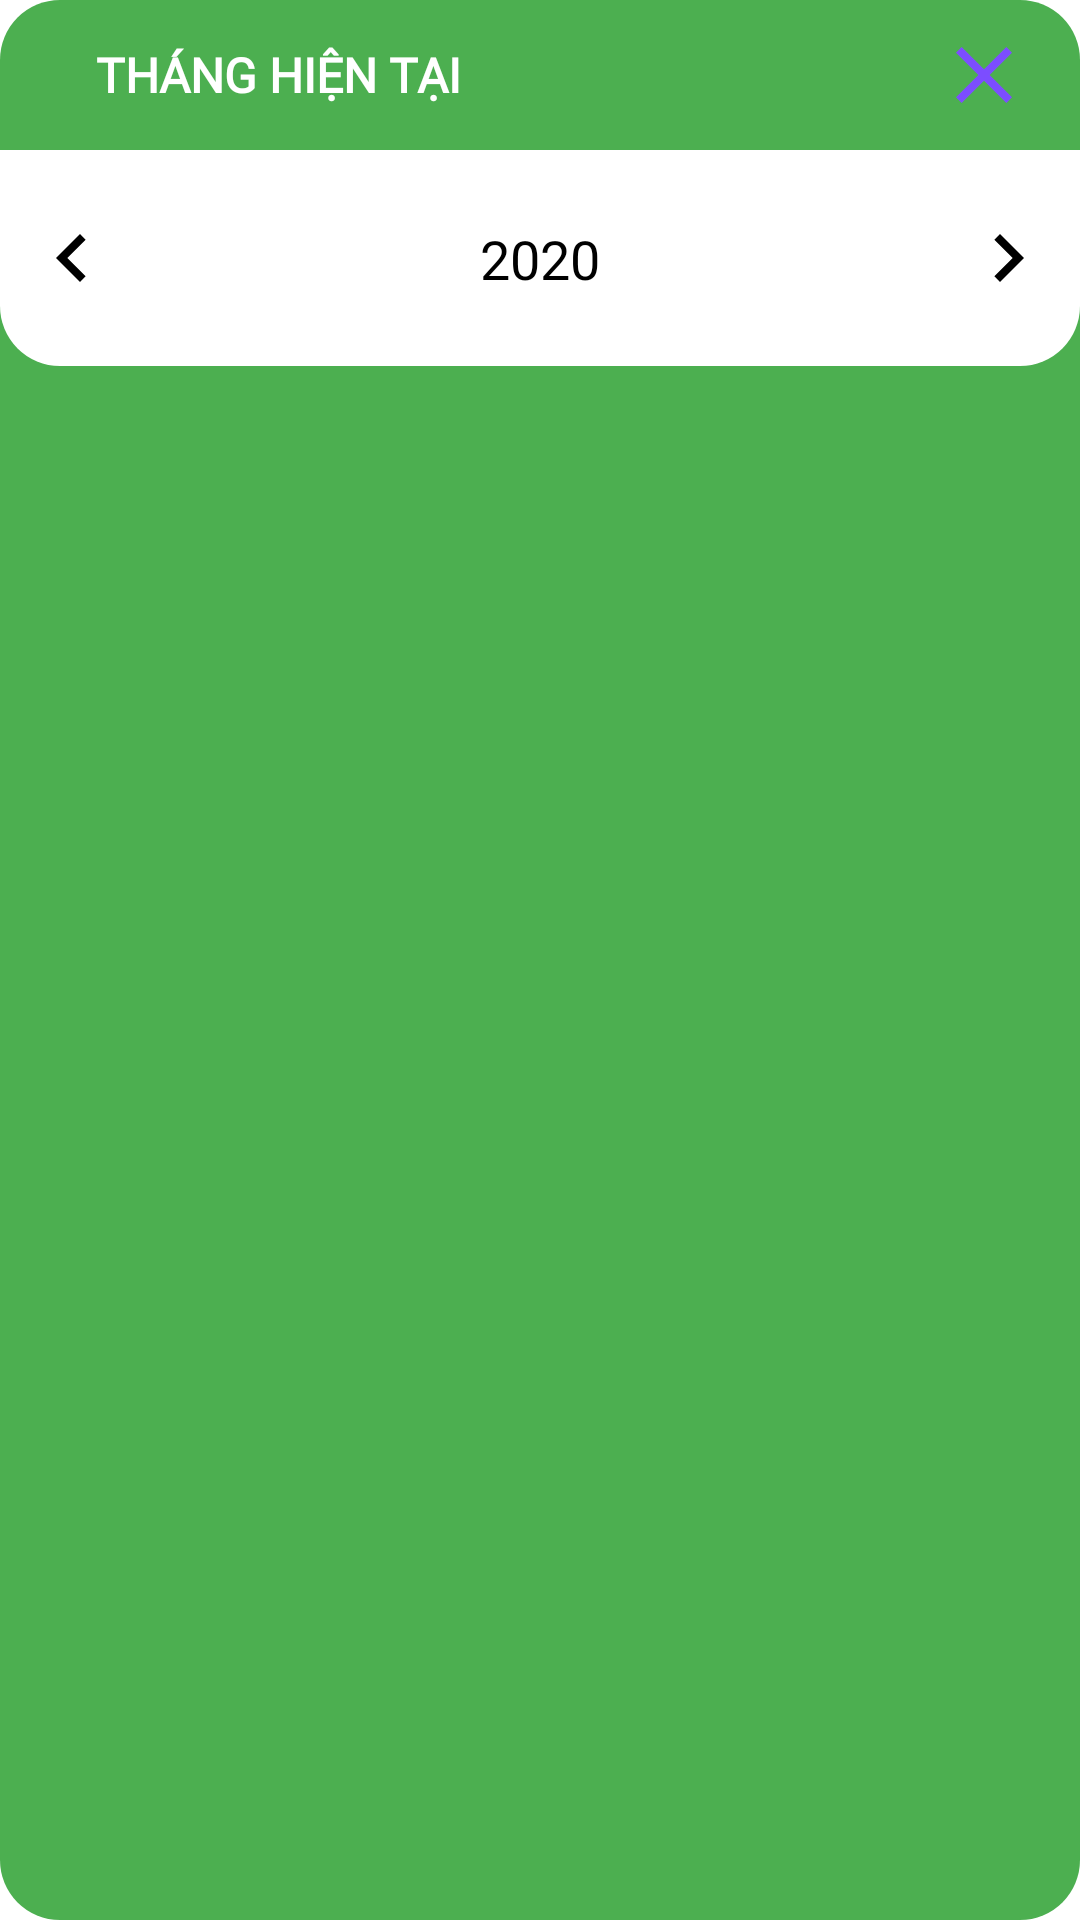

Icons on this 1080×1920 Android screen, each with its box as (x1, y1, x2, y2):
close: (956, 47, 1012, 103)
